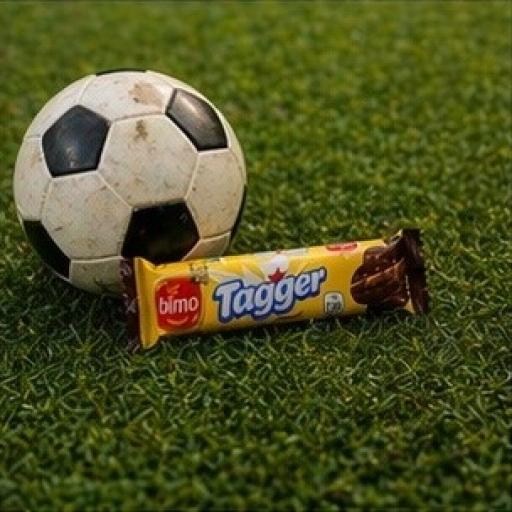tagger: (114, 220, 456, 387)
